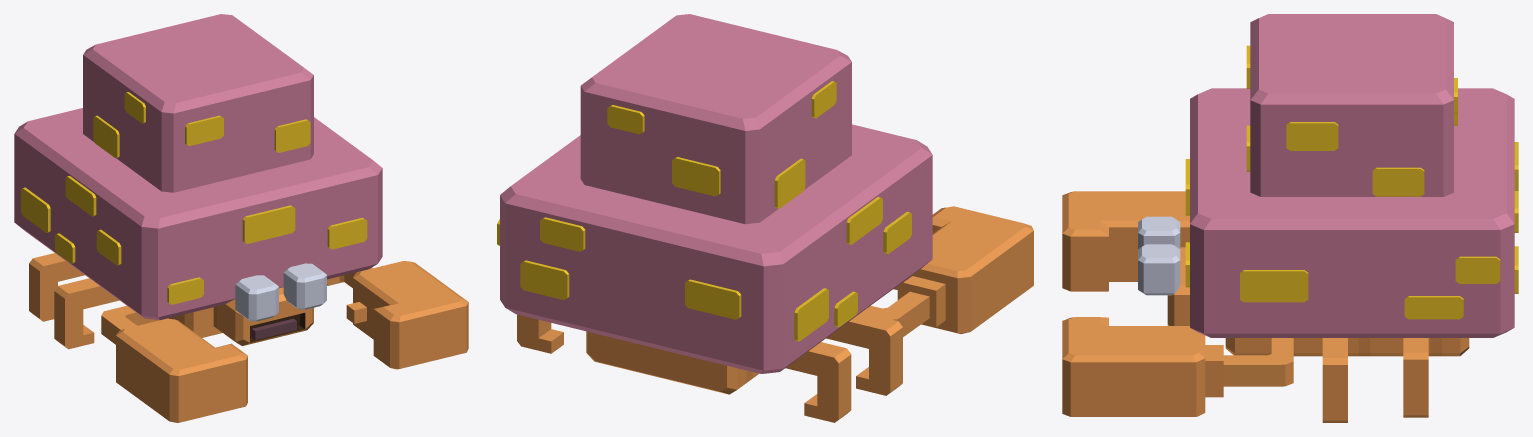
3 views of the same model, side by side, from view 1: azimuth 30°, elevation 25°; view 2: azimuth 150°, elevation 25°; view 3: azimuth 270°, elevation 25° (orthographic). The views are drawn at different scales.
Visible parts, largest first — view 1: 0047_parasect; view 2: 0047_parasect; view 3: 0047_parasect.
Boxes of the visible parts, x1=… form: 0047_parasect: x1=14, y1=14, x2=468, y2=422; 0047_parasect: x1=497, y1=14, x2=1033, y2=422; 0047_parasect: x1=1062, y1=14, x2=1518, y2=422.
Bounding box in the file's own units: 2.85 × 2.25 × 3.23.
Materials: 1 (1 with a texture image).
